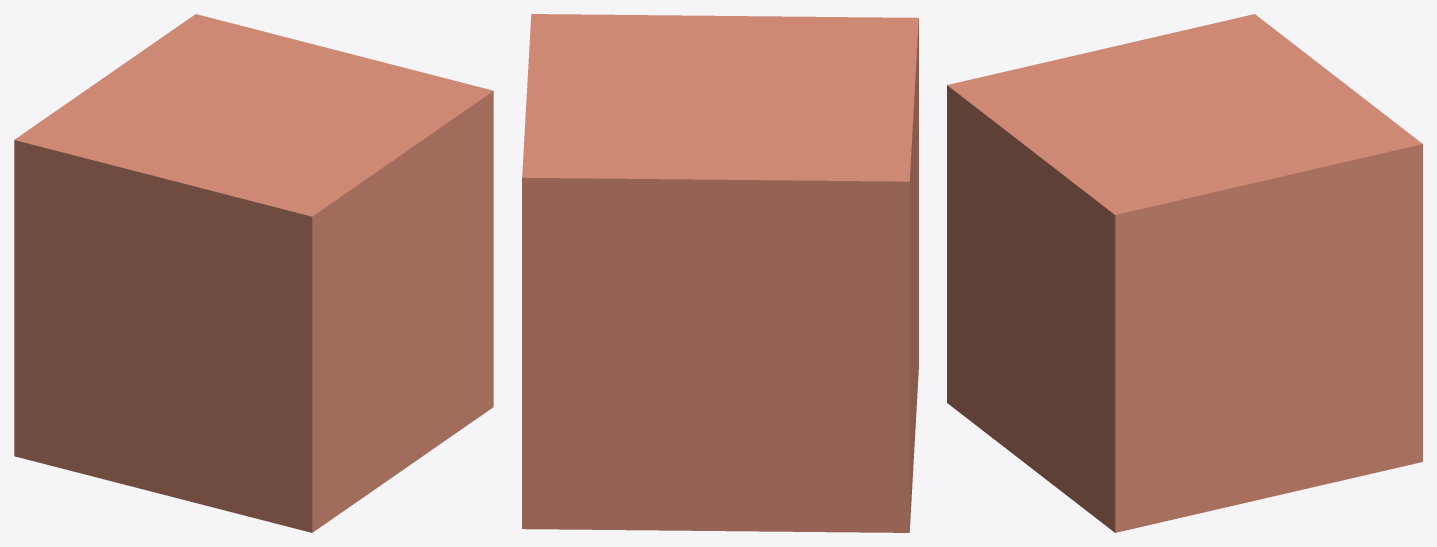
Rendered from punctual-lights.gltf.
3 renders of one model, left to right at view 1: azimuth 30°, elevation 25°; view 2: azimuth 150°, elevation 25°; view 3: azimuth 270°, elevation 25°, orthographic. The views are drawn at different scales.
Parts seen in each view (by area): view 1: box; view 2: box; view 3: box.
Part boxes in pixels (bbox=[...]): box: bbox=[14, 14, 493, 532]; box: bbox=[522, 14, 918, 532]; box: bbox=[947, 14, 1422, 532].
Size of what is drawn, in the model's own units: 0.8142 by 0.6 by 0.8142.
